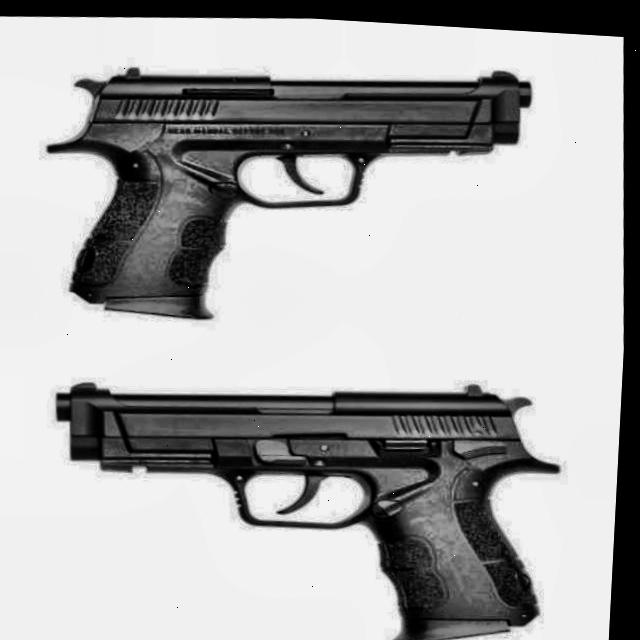pistol: (37, 349, 598, 640)
